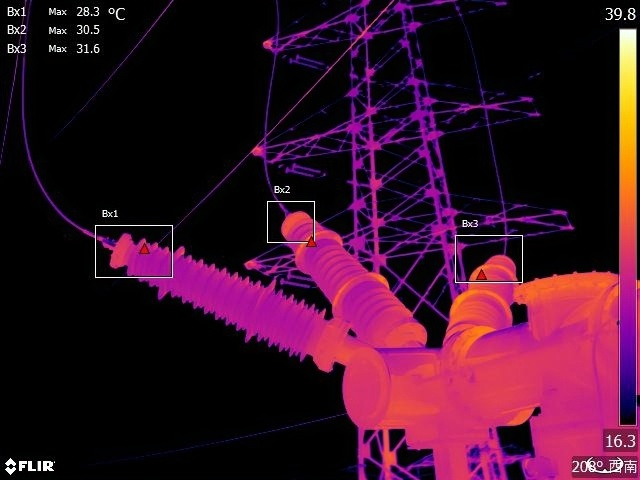tube: (100, 223, 337, 370), (282, 201, 430, 356), (435, 247, 529, 348)
